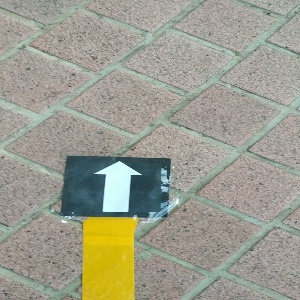straight: (63, 156, 168, 218)
